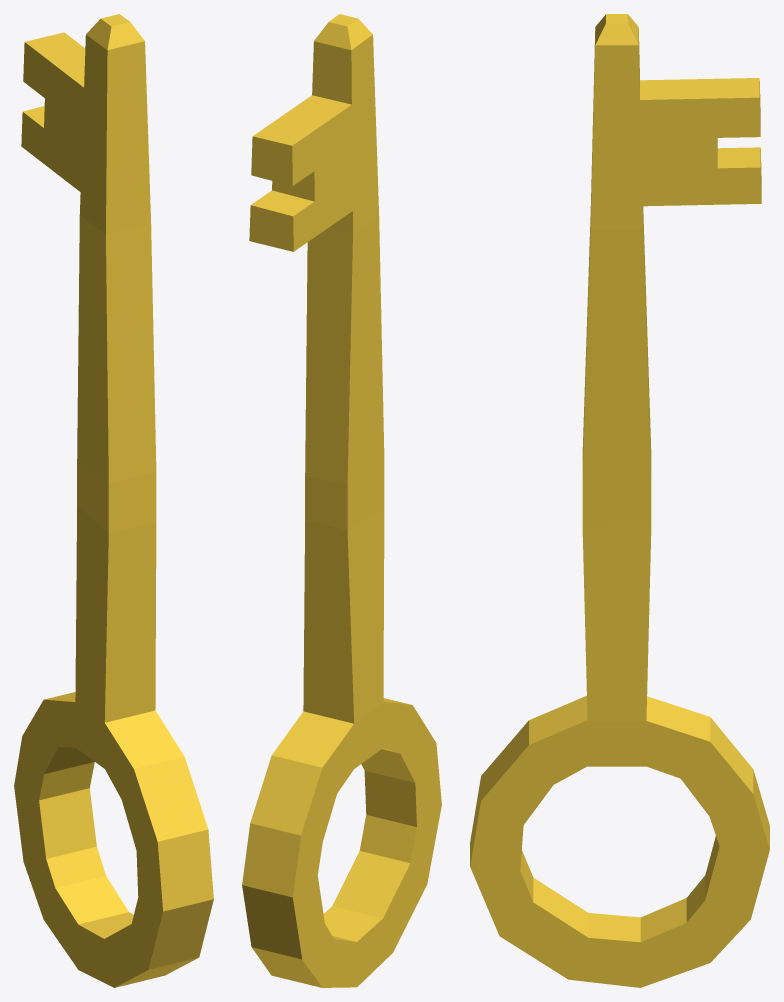
The model's file is chave_dourada.fbx.
3 renders of one model, left to right at view 1: azimuth 30°, elevation 25°; view 2: azimuth 150°, elevation 25°; view 3: azimuth 270°, elevation 25°, orthographic.
Visible parts, largest first — view 1: Cube; view 2: Cube; view 3: Cube.
Boxes of the visible parts, left/top/right/bottom form: Cube: left=14, top=14, right=213, bottom=987; Cube: left=242, top=14, right=441, bottom=987; Cube: left=470, top=14, right=769, bottom=987.
Bounding box in the file's own units: 2.21 × 39.6 × 11.24.
